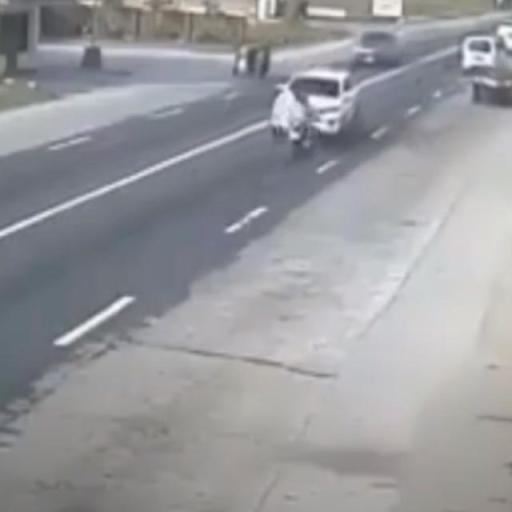Car: (273, 64, 365, 137)
Minor Accident: (264, 56, 356, 154)
Motor: (270, 72, 320, 160)
